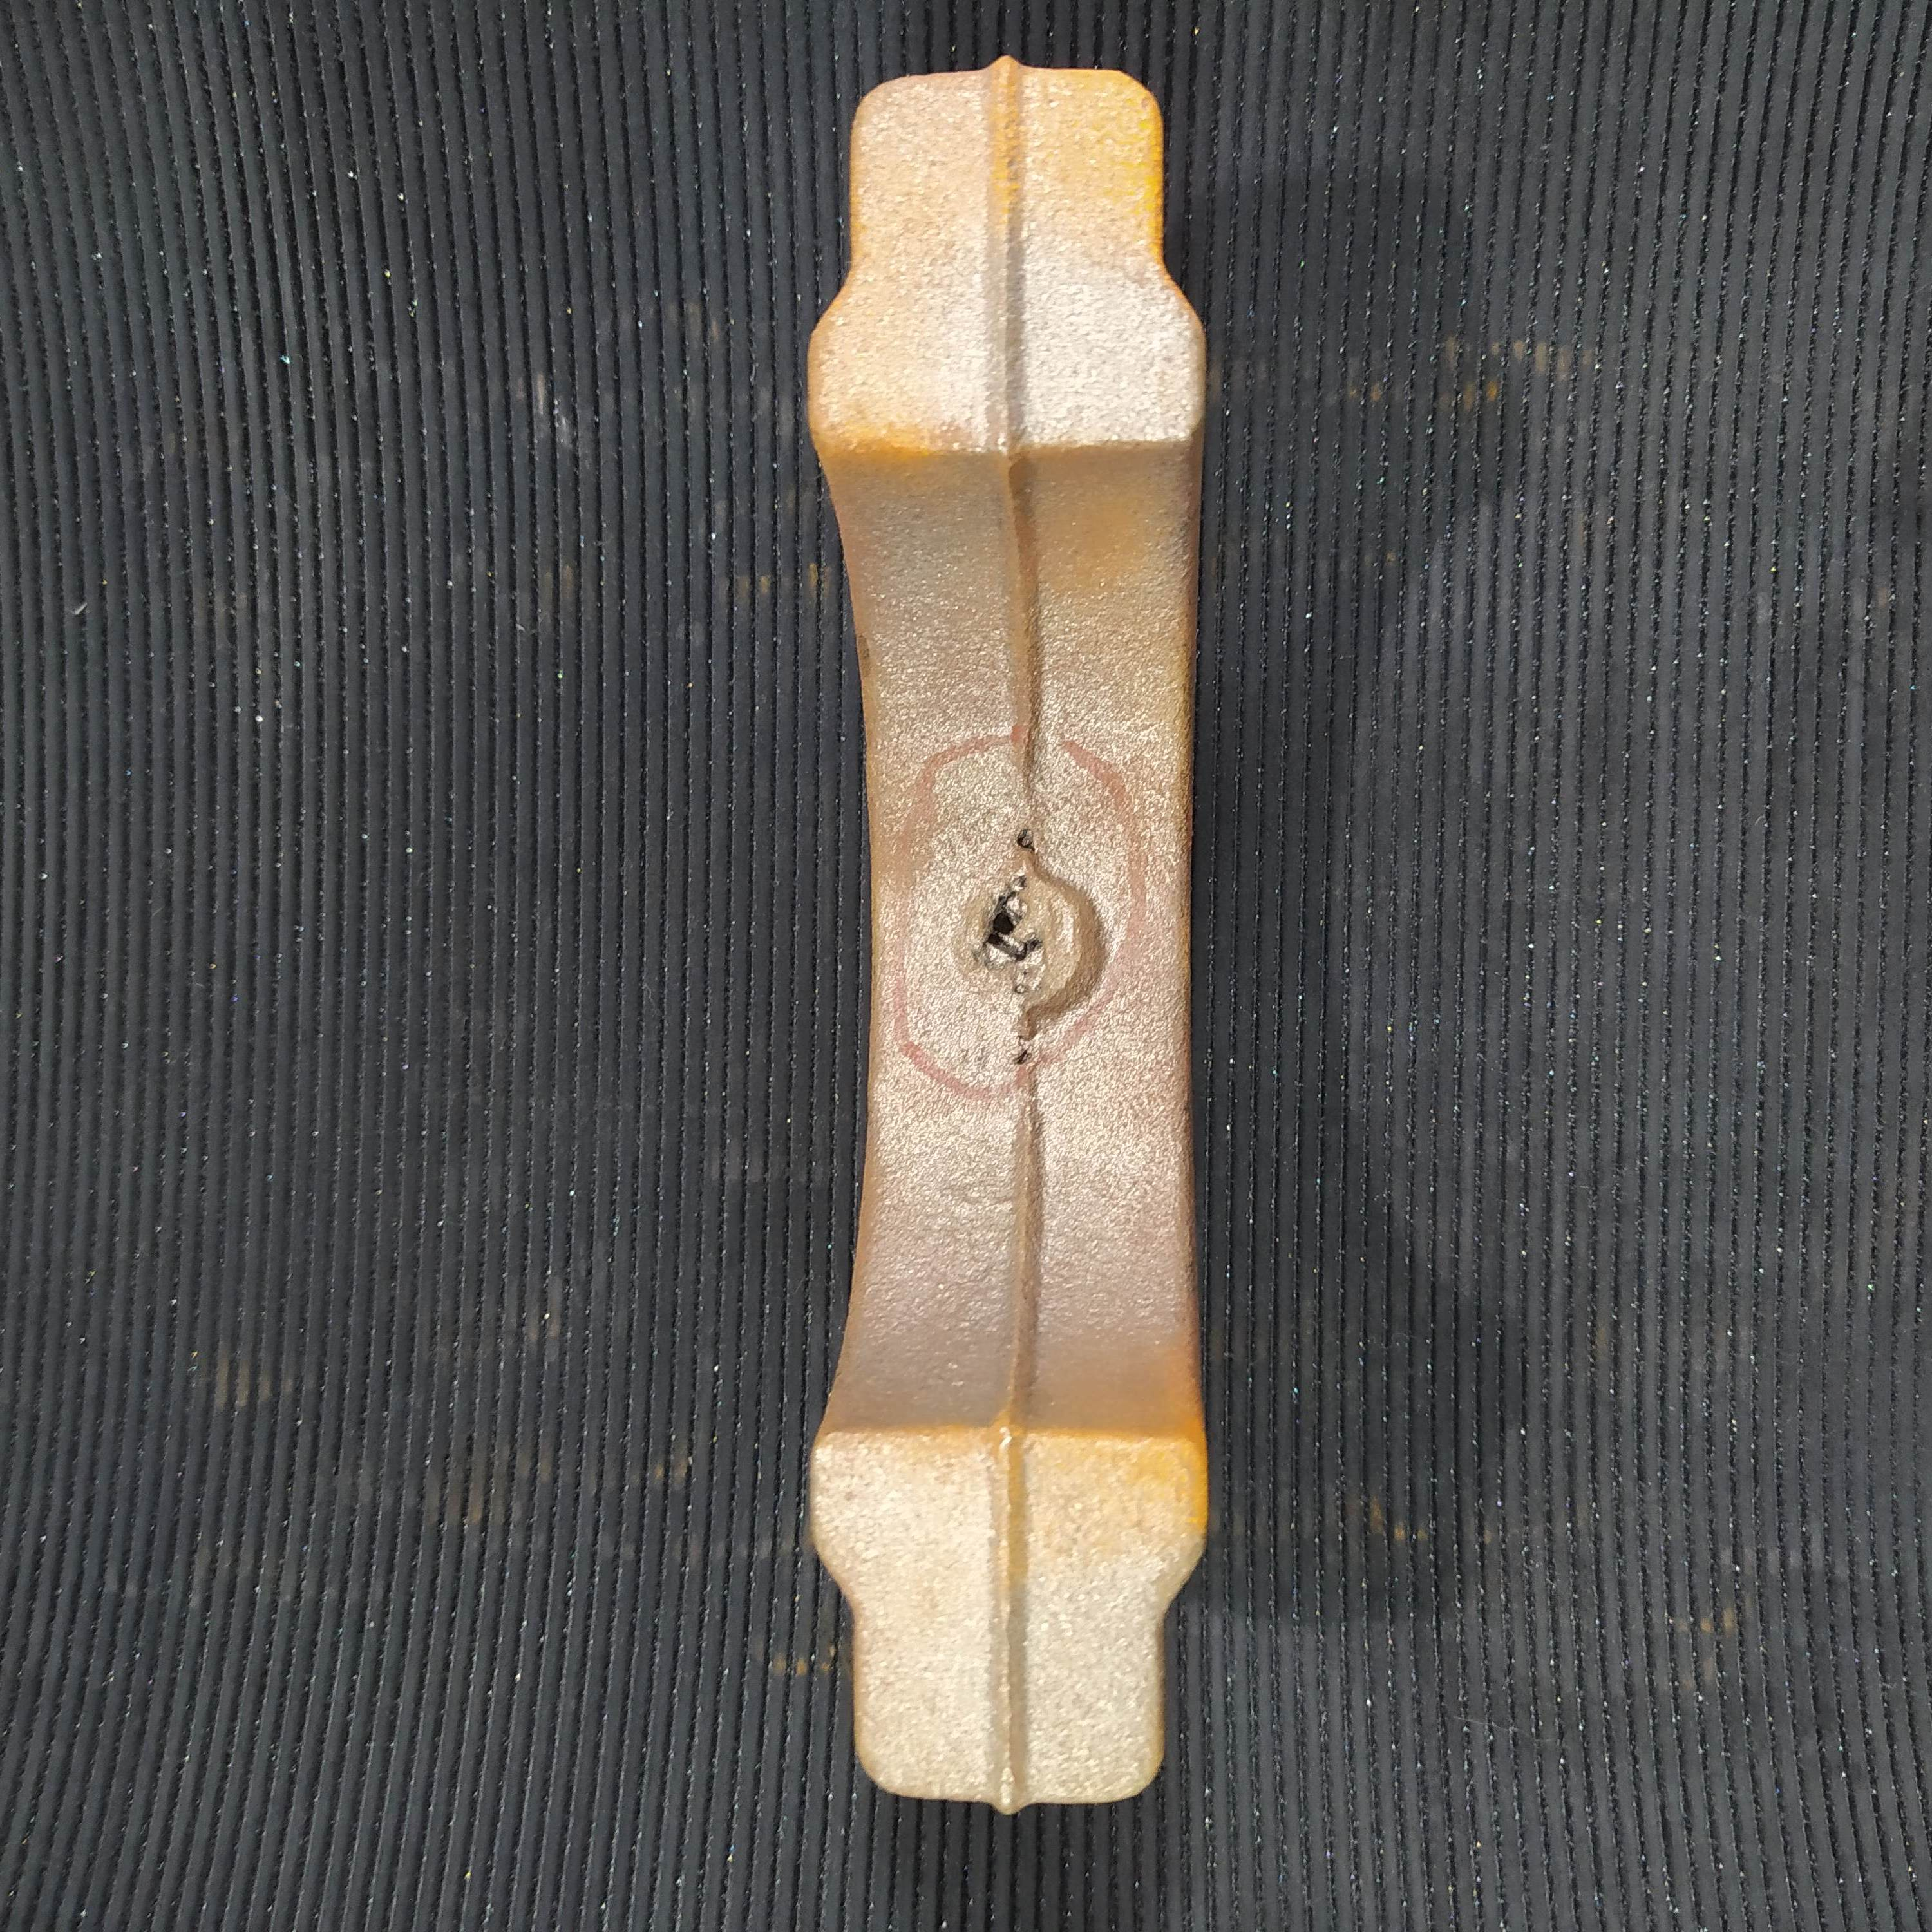buraco: (984, 886, 1047, 971), (1010, 819, 1037, 862), (1012, 1047, 1037, 1072)
